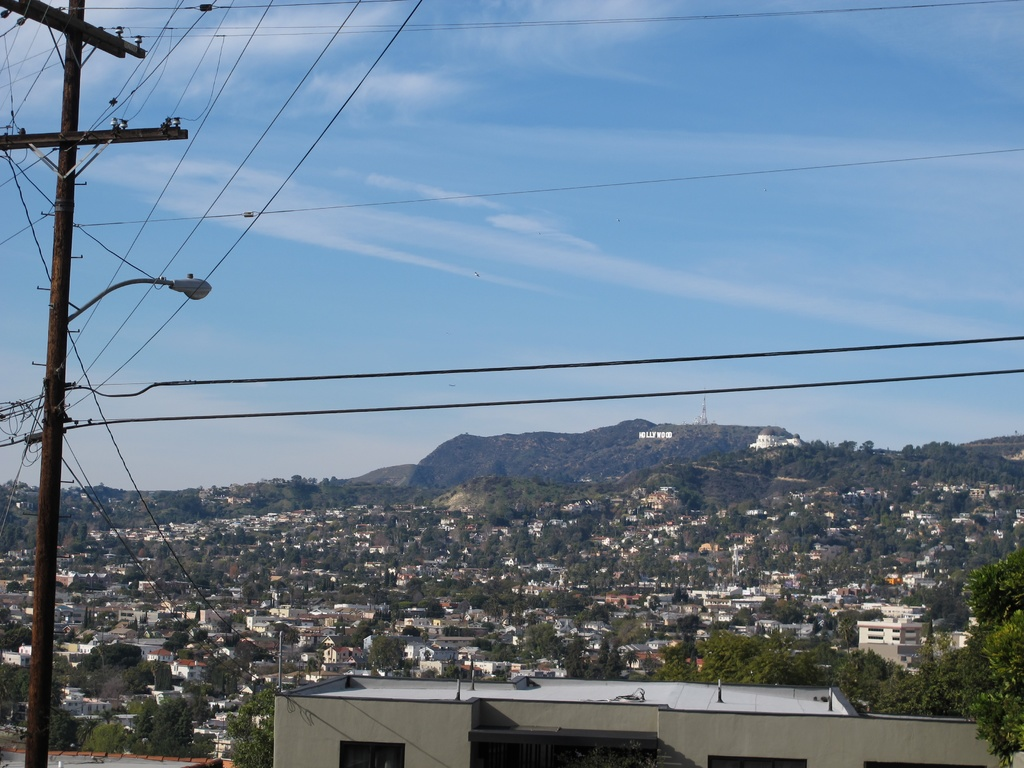Tree: (0, 418, 1024, 767)
